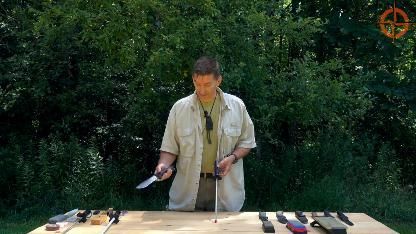knife: (134, 164, 172, 188)
